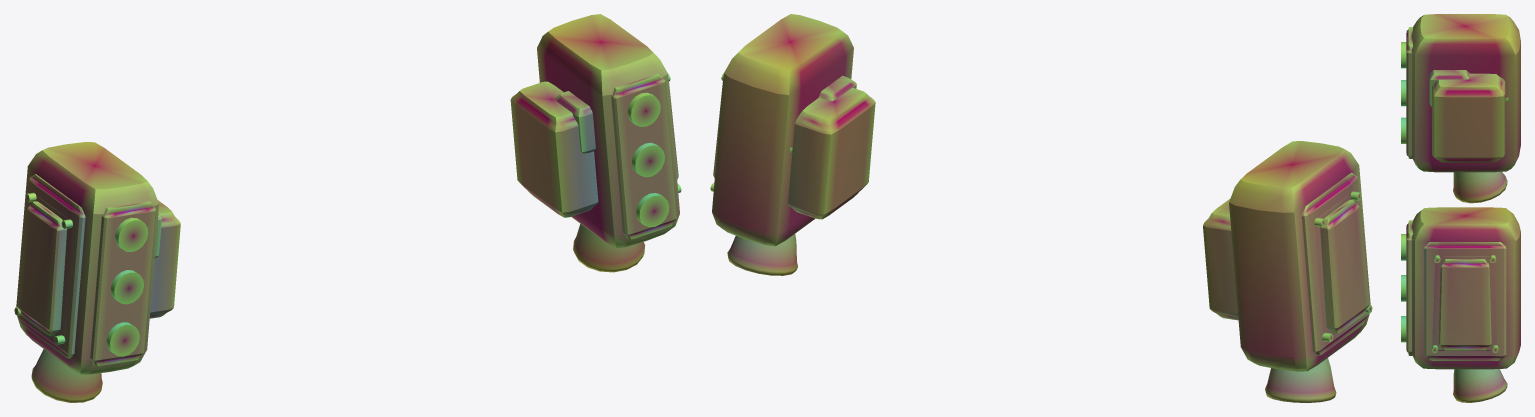
File: llm_gen_leg_thrusters_047_8b1ea2.glb
3 views of the same model, side by side, from view 1: azimuth 30°, elevation 25°; view 2: azimuth 150°, elevation 25°; view 3: azimuth 270°, elevation 25° (orthographic). The views are drawn at different scales.
Parts seen in each view (by area): view 1: leg_missile_hull_0_barrel_metal_r, leg_missile_hull_0_barrel_metal_l, adapter_calf_clamp_r, leg_pod_armor_cover_6_cobalt_anodized_l, adapter_sub_missile_bezel_dark_1_adapter_dark_l, adapter_sub_missile_bezel_dark_1_adapter_dark_r, adapter_sub_side_frame_dark_5_adapter_dark_l, adapter_calf_clamp_l, leg_ankle_bell_7_vernier_bell_vernier_l, leg_ankle_bell_7_vernier_bell_vernier_r, adapter_leg_knee_mount_dark_8_adapter_dark_r, leg_cell_top_2_barrel_metal_r (+5 smaller); view 2: leg_missile_hull_0_barrel_metal_r, leg_missile_hull_0_barrel_metal_l, adapter_calf_clamp_r, leg_pod_armor_cover_6_cobalt_anodized_l, adapter_sub_side_frame_dark_5_adapter_dark_l, adapter_calf_clamp_l, leg_ankle_bell_7_vernier_bell_vernier_l, leg_ankle_bell_7_vernier_bell_vernier_r; view 3: leg_missile_hull_0_barrel_metal_l, leg_missile_hull_0_barrel_metal_r, adapter_calf_clamp_l, leg_pod_armor_cover_6_cobalt_anodized_r, adapter_sub_side_frame_dark_5_adapter_dark_r, leg_ankle_bell_7_vernier_bell_vernier_r, leg_ankle_bell_7_vernier_bell_vernier_l, adapter_sub_missile_bezel_dark_1_adapter_dark_r, adapter_sub_missile_bezel_dark_1_adapter_dark_l, adapter_leg_knee_mount_dark_8_adapter_dark_l, leg_cell_top_2_barrel_metal_r, leg_cell_mid_3_barrel_metal_r (+4 smaller).
Boxes of the visible parts, left/top/right/bottom form: leg_missile_hull_0_barrel_metal_r: left=537, top=14, right=679, bottom=248; leg_missile_hull_0_barrel_metal_l: left=16, top=142, right=158, bottom=374; adapter_calf_clamp_r: left=510, top=81, right=598, bottom=217; leg_pod_armor_cover_6_cobalt_anodized_l: left=14, top=192, right=72, bottom=344; adapter_sub_missile_bezel_dark_1_adapter_dark_l: left=90, top=201, right=155, bottom=365; adapter_sub_missile_bezel_dark_1_adapter_dark_r: left=611, top=73, right=676, bottom=239; adapter_sub_side_frame_dark_5_adapter_dark_l: left=17, top=174, right=85, bottom=358; adapter_calf_clamp_l: left=149, top=200, right=180, bottom=318; leg_ankle_bell_7_vernier_bell_vernier_l: left=31, top=349, right=102, bottom=402; leg_ankle_bell_7_vernier_bell_vernier_r: left=573, top=224, right=645, bottom=272; adapter_leg_knee_mount_dark_8_adapter_dark_r: left=554, top=91, right=595, bottom=153; leg_cell_top_2_barrel_metal_r: left=627, top=92, right=660, bottom=127; leg_missile_hull_0_barrel_metal_r: left=712, top=14, right=853, bottom=246; leg_missile_hull_0_barrel_metal_l: left=1229, top=141, right=1370, bottom=371; adapter_calf_clamp_r: left=788, top=87, right=875, bottom=219; leg_pod_armor_cover_6_cobalt_anodized_l: left=1314, top=191, right=1372, bottom=342; adapter_sub_side_frame_dark_5_adapter_dark_l: left=1302, top=172, right=1368, bottom=355; adapter_calf_clamp_l: left=1203, top=199, right=1238, bottom=320; leg_ankle_bell_7_vernier_bell_vernier_l: left=1265, top=358, right=1336, bottom=402; leg_ankle_bell_7_vernier_bell_vernier_r: left=727, top=234, right=797, bottom=275; leg_missile_hull_0_barrel_metal_l: left=1411, top=14, right=1520, bottom=172; leg_missile_hull_0_barrel_metal_r: left=1411, top=207, right=1520, bottom=369; adapter_calf_clamp_l: left=1432, top=73, right=1505, bottom=162; leg_pod_armor_cover_6_cobalt_anodized_r: left=1431, top=255, right=1498, bottom=352; adapter_sub_side_frame_dark_5_adapter_dark_r: left=1424, top=242, right=1506, bottom=360; leg_ankle_bell_7_vernier_bell_vernier_r: left=1453, top=369, right=1507, bottom=402; leg_ankle_bell_7_vernier_bell_vernier_l: left=1453, top=172, right=1507, bottom=203; adapter_sub_missile_bezel_dark_1_adapter_dark_r: left=1406, top=220, right=1413, bottom=355; adapter_sub_missile_bezel_dark_1_adapter_dark_l: left=1406, top=27, right=1413, bottom=158; adapter_leg_knee_mount_dark_8_adapter_dark_l: left=1429, top=70, right=1469, bottom=106; leg_cell_top_2_barrel_metal_r: left=1401, top=234, right=1406, bottom=260; leg_cell_mid_3_barrel_metal_r: left=1401, top=275, right=1406, bottom=301.
Bounding box in the file's own units: 83.85 × 29.33 × 17.98.
